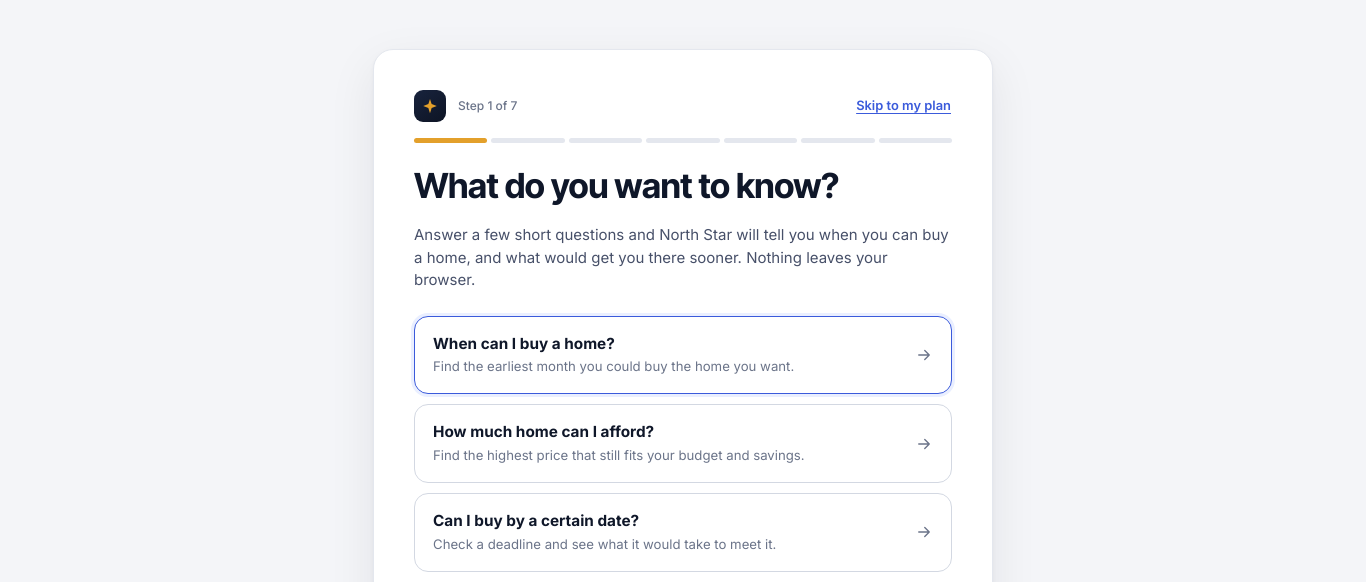
Test: advanced pages › offers every goal with the right target control
The width and height of the screenshot is (1366, 582).
Click the button "Skip to my plan" at (904, 106), box [855,95,952,116]
(page scrolled)
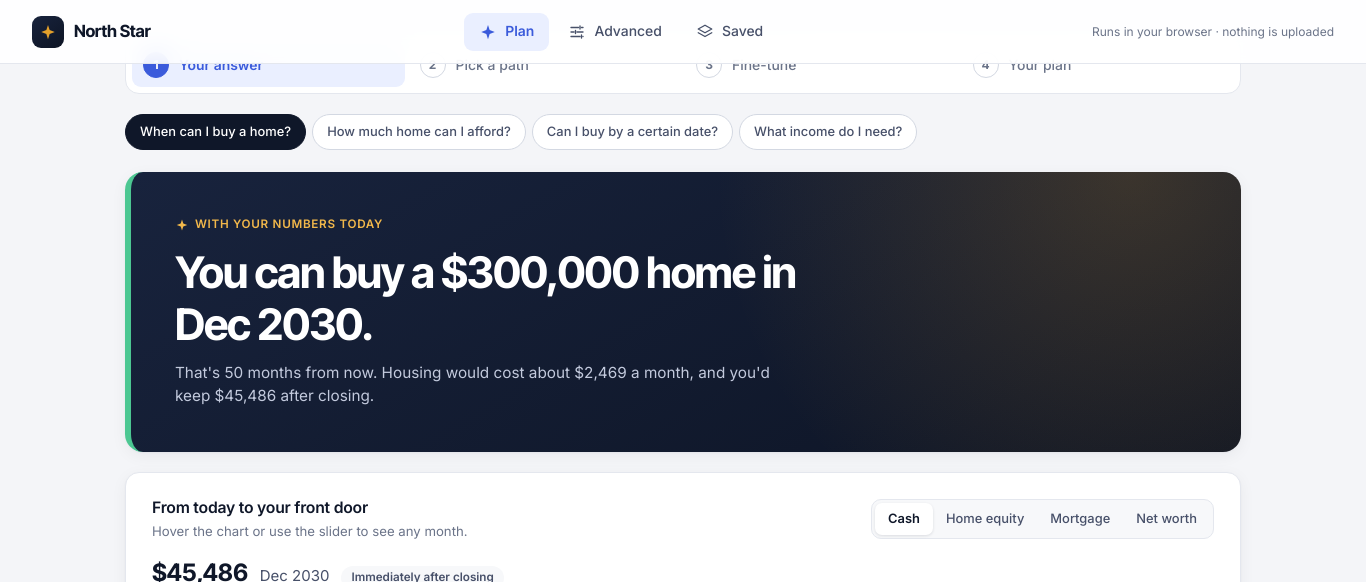
Click the button "Advanced" at (615, 32), box [553,12,677,50]
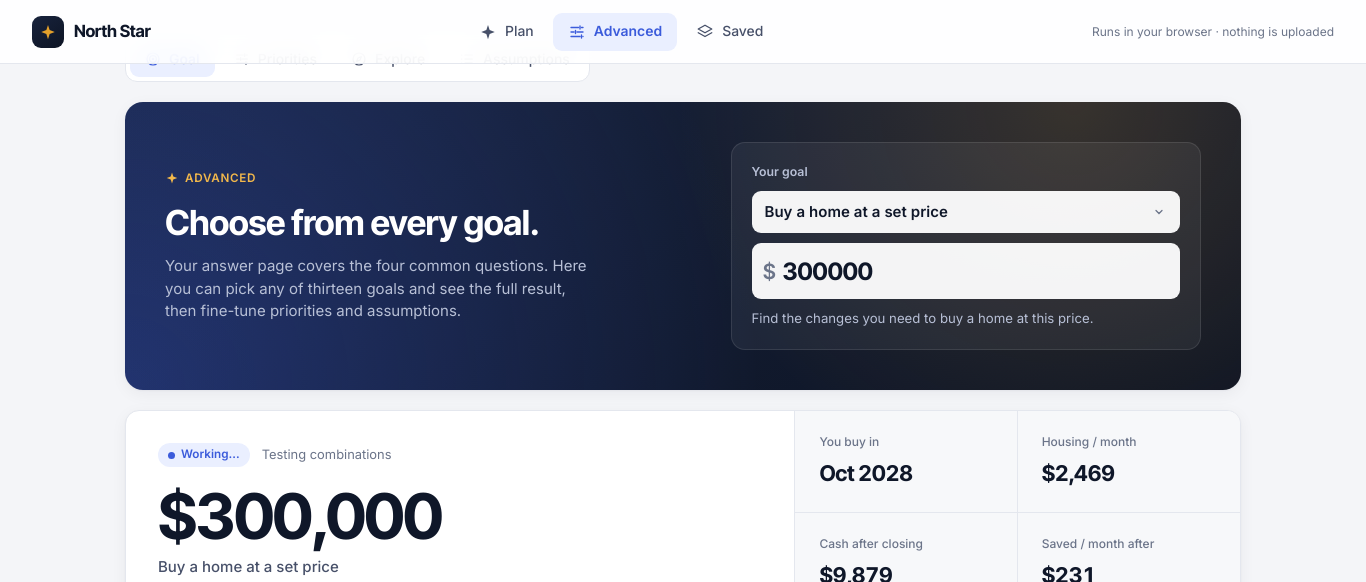
Select "Buy a home by a date" in the dropdown labelled "Your goal" at (966, 212), box [752,191,1180,233]
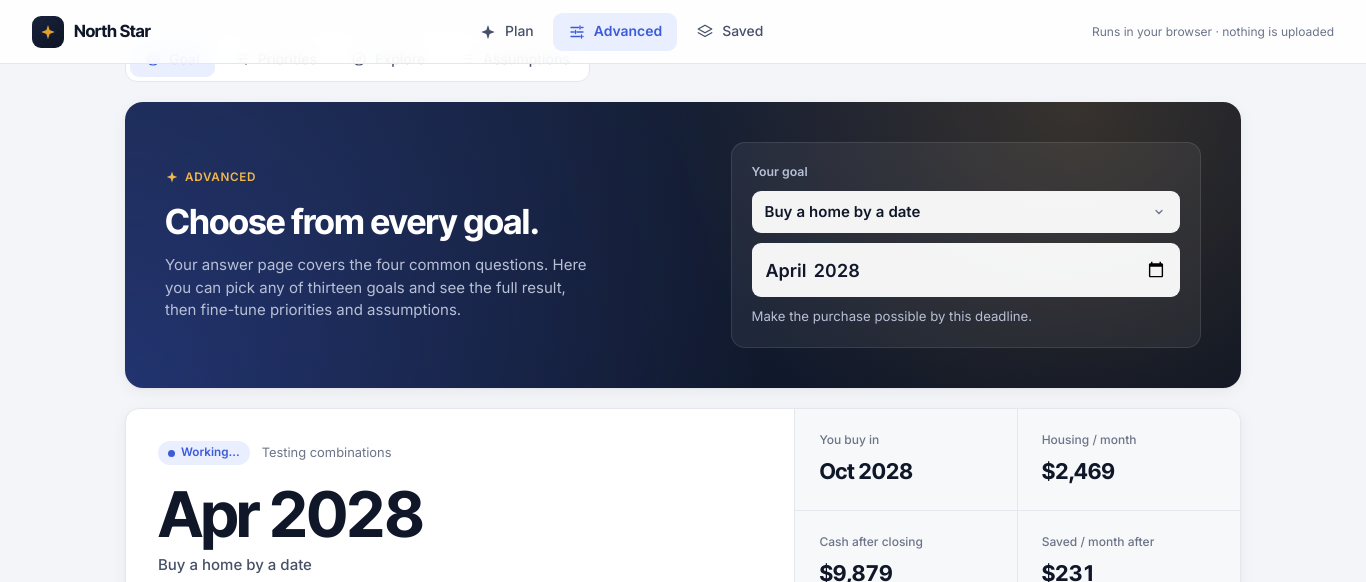
Expected: the field named "Target purchase date" is shown, [752,243,1180,297]
Select "Find the salary I need" in the dropdown labelled "Your goal" at (966, 212), box [752,191,1180,233]
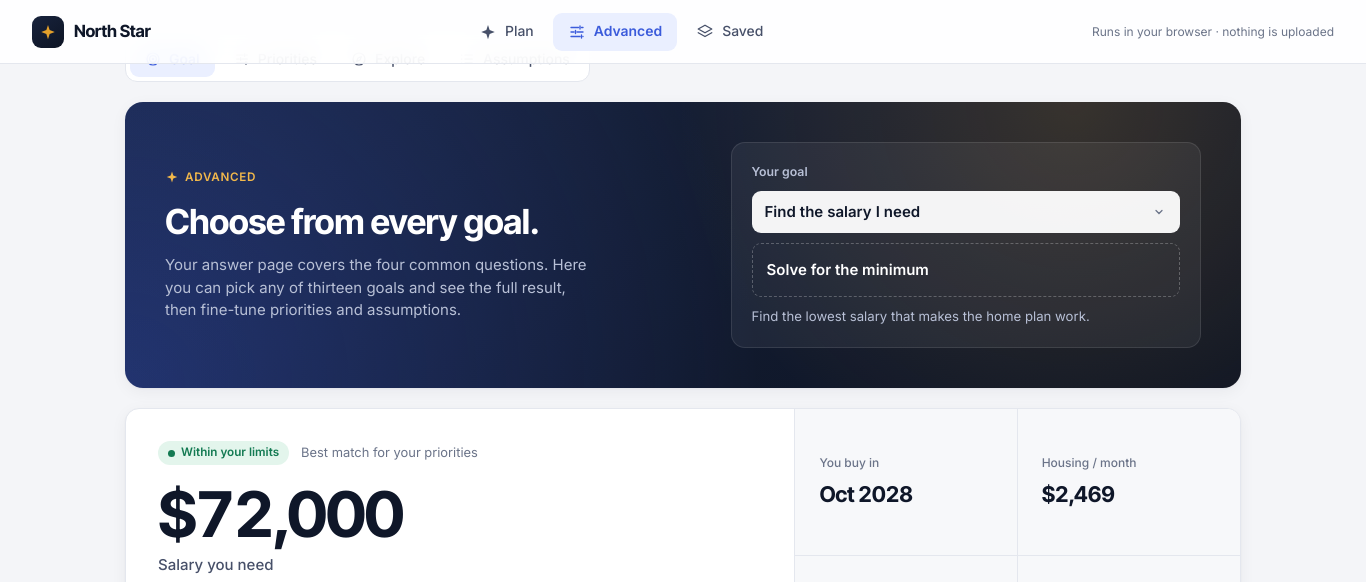
Expected: the text "Solve for the minimum" is shown, [752,243,1180,297]
